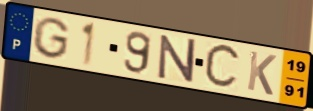1: (79, 21, 101, 70)
9: (122, 30, 153, 75)
C: (202, 42, 243, 91)
G: (31, 16, 72, 61)
K: (245, 49, 279, 98)
N: (157, 34, 197, 85)
